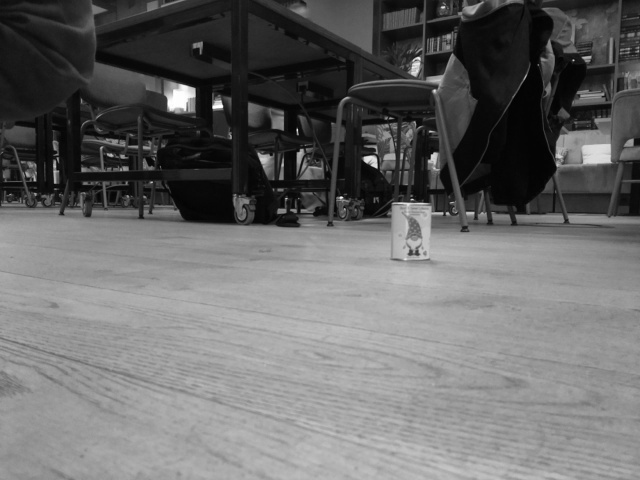gnome: (394, 210, 429, 259)
